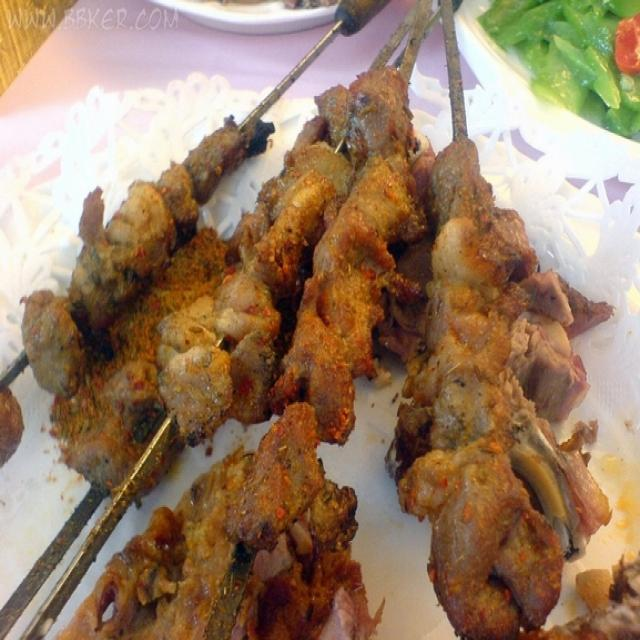烧串烤肉: (35, 28, 598, 615)
